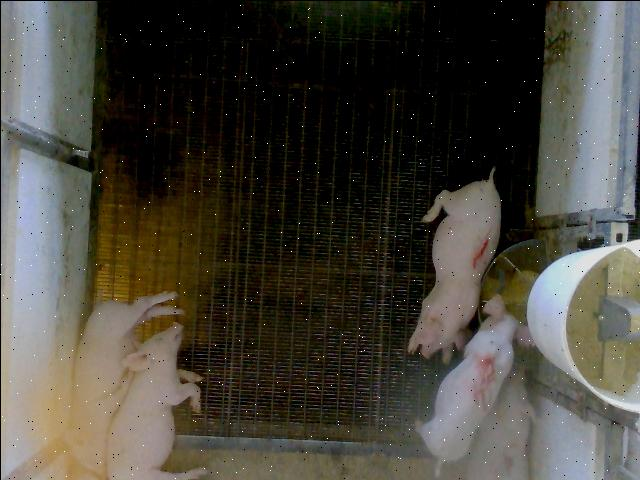pig-1: (408, 168, 500, 357)
pig-3: (466, 365, 534, 478)
pig-5: (416, 294, 531, 474)
